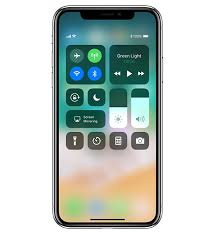iphone: (49, 5, 164, 227)
iphone10: (49, 4, 164, 226)
